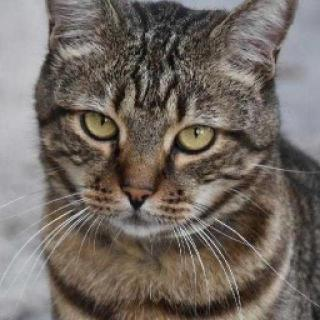cat: (33, 1, 289, 238)
nose: (119, 166, 152, 206)
